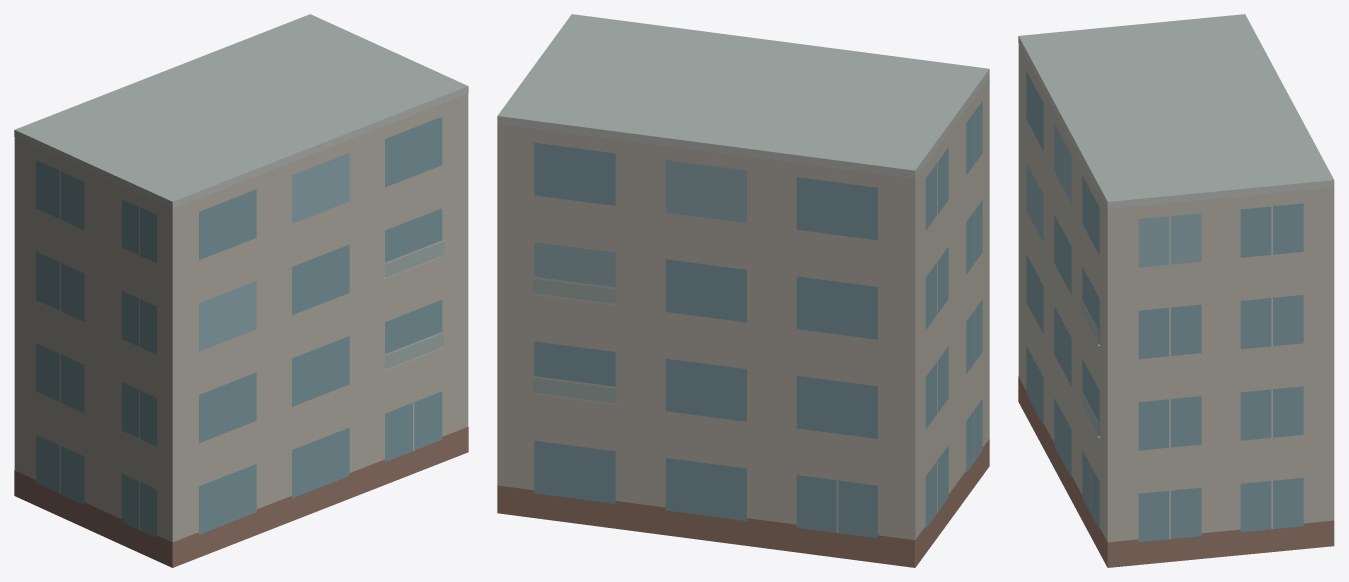
Rendered from residential-2e8164d5-0673-4078-9185-e2f88f91218b.glb.
The picture shows the model from 3 angles, left to right: view 1: azimuth 30°, elevation 25°; view 2: azimuth 150°, elevation 25°; view 3: azimuth 270°, elevation 25°; orthographic projection. The views are drawn at different scales.
Parts seen in each view (by area): view 1: residential-2e8164d5-0673-4078-9185-e2f88f91218b.tmp; view 2: residential-2e8164d5-0673-4078-9185-e2f88f91218b.tmp; view 3: residential-2e8164d5-0673-4078-9185-e2f88f91218b.tmp.
Boxes of the visible parts, left/top/right/bottom form: residential-2e8164d5-0673-4078-9185-e2f88f91218b.tmp: left=14, top=14, right=468, bottom=567; residential-2e8164d5-0673-4078-9185-e2f88f91218b.tmp: left=497, top=14, right=989, bottom=567; residential-2e8164d5-0673-4078-9185-e2f88f91218b.tmp: left=1018, top=14, right=1334, bottom=567.
Size of the model in its own units: 13.44 by 12.2 by 9.55.
